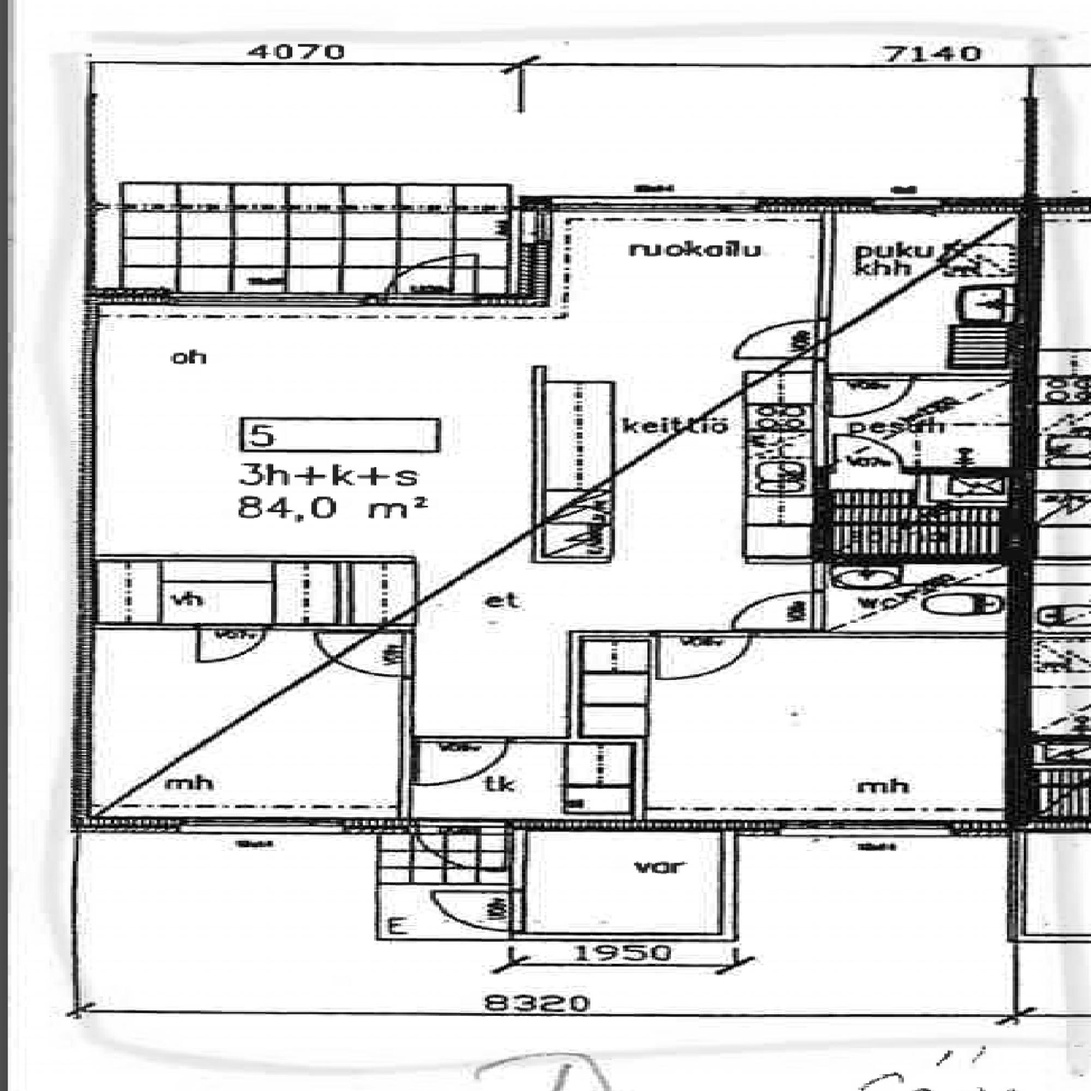wall: (1014, 197, 1039, 835), (78, 288, 98, 835), (77, 288, 551, 306), (521, 196, 1039, 212), (78, 820, 528, 835), (815, 197, 829, 639), (722, 820, 1039, 835), (521, 196, 551, 306), (569, 632, 1039, 639), (400, 625, 413, 835), (538, 366, 551, 564), (528, 820, 740, 832), (78, 95, 91, 288), (722, 820, 740, 942), (510, 820, 528, 942), (77, 625, 413, 631), (77, 555, 413, 561), (510, 934, 740, 942), (815, 468, 1039, 476), (815, 556, 1039, 564), (815, 374, 1039, 381), (399, 738, 647, 744), (569, 632, 582, 744), (633, 738, 647, 832), (1026, 98, 1039, 196), (338, 555, 352, 631), (538, 557, 616, 564), (748, 557, 816, 564)
